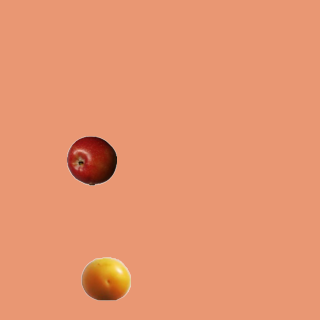Apple Braeburn: (66, 135, 116, 185)
Cherry Wax Yellow: (80, 253, 130, 303)
